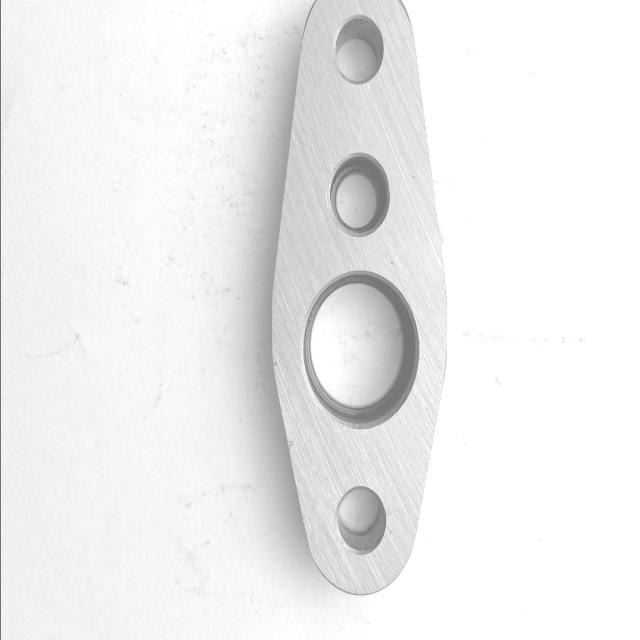chap: (286, 436, 296, 450), (386, 257, 396, 268), (377, 158, 383, 166), (387, 528, 392, 536), (386, 20, 390, 26), (346, 0, 352, 2)
